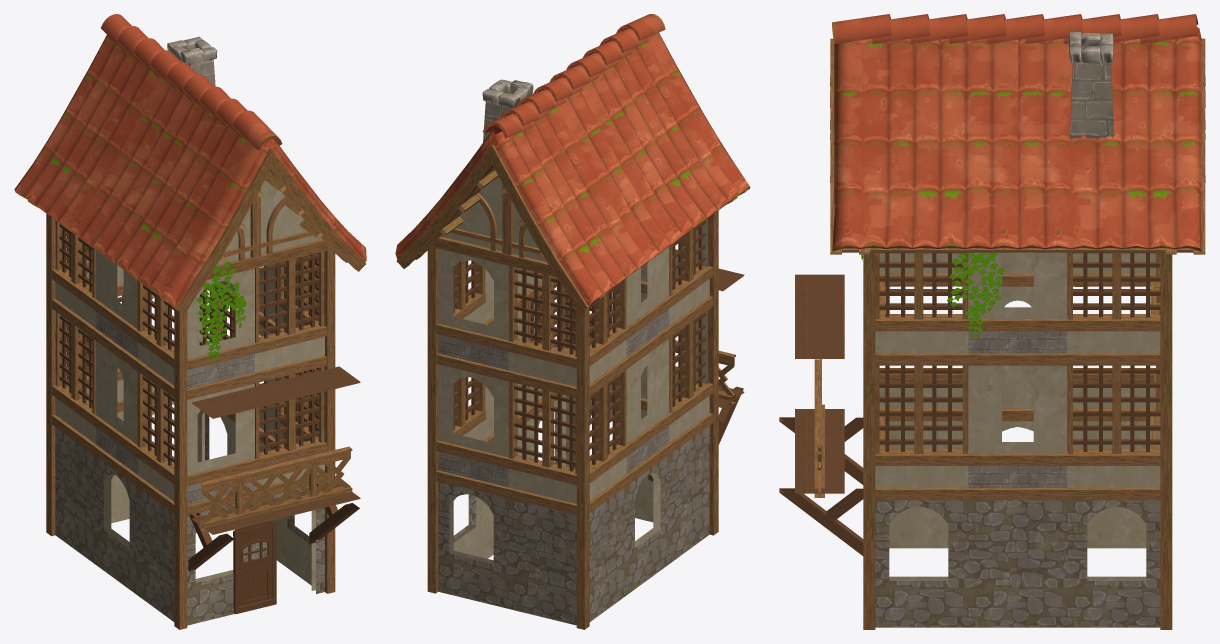
File: med-townhouse.glb
The picture shows the model from 3 angles, left to right: view 1: azimuth 30°, elevation 25°; view 2: azimuth 150°, elevation 25°; view 3: azimuth 270°, elevation 25°; orthographic projection. The views are drawn at different scales.
Visible parts, largest first — view 1: med-townhouse; view 2: med-townhouse; view 3: med-townhouse.
Boxes of the visible parts, x1,y1,x2,y2 form: med-townhouse: (14, 14, 366, 629); med-townhouse: (395, 14, 750, 629); med-townhouse: (779, 14, 1205, 629).
Size of the model in its own units: 5.51 by 12.72 by 8.61.
Materials: 8 (7 with a texture image).
